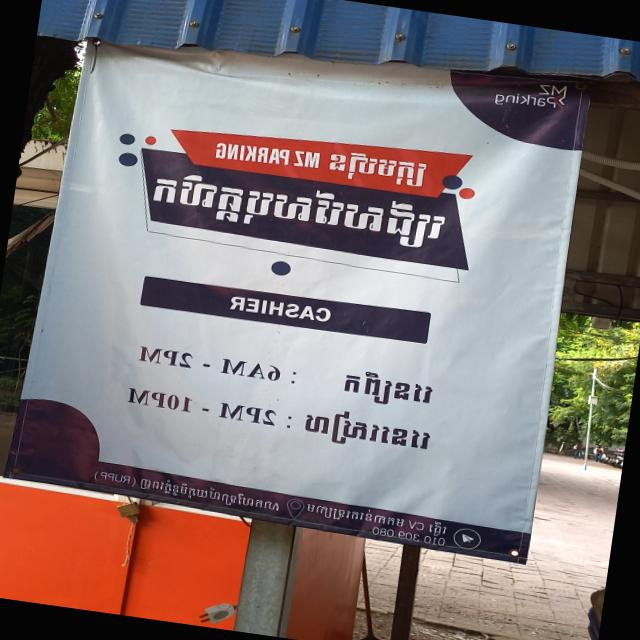218: (367, 524, 446, 548)
527: (166, 392, 195, 415)
631: (176, 350, 201, 374), (259, 405, 282, 428)
797: (264, 362, 288, 385)
Yolov11_80vkh: (144, 168, 451, 252), (298, 399, 440, 461), (136, 473, 282, 516), (320, 145, 434, 193), (331, 365, 437, 413), (302, 500, 405, 531), (425, 519, 452, 539)
